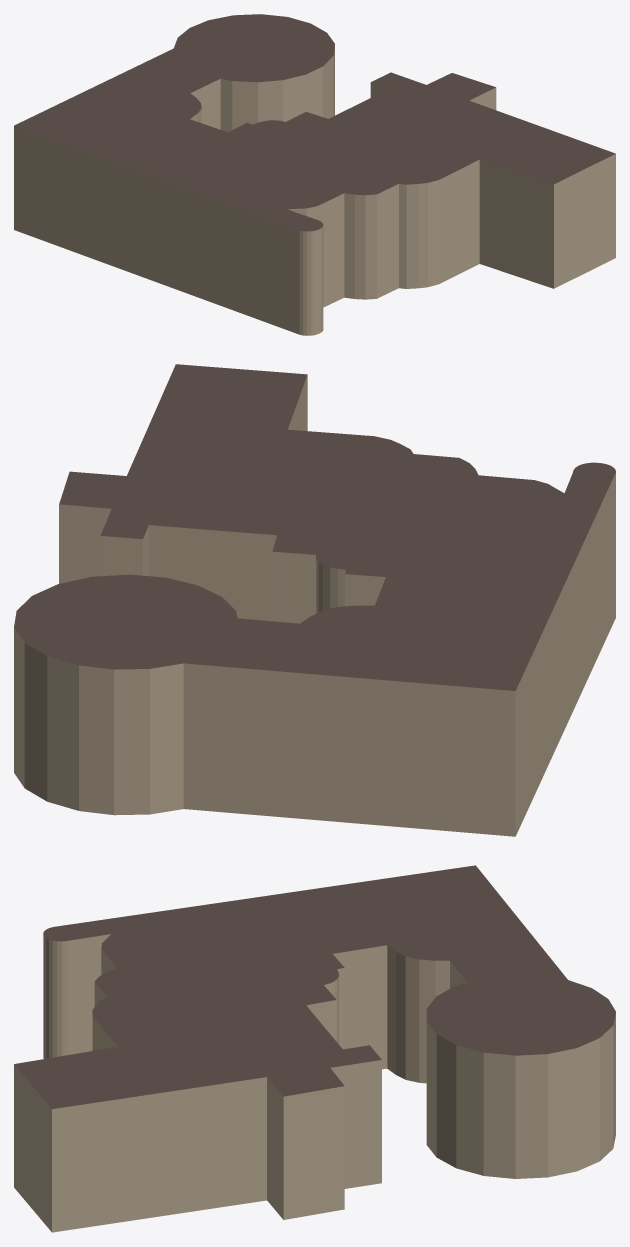
3 views of the same model, one above another, from view 1: azimuth 30°, elevation 25°; view 2: azimuth 150°, elevation 25°; view 3: azimuth 270°, elevation 25° (orthographic). The views are drawn at different scales.
Visible parts, largest first — view 1: HP-w1435252853; view 2: HP-w1435252853; view 3: HP-w1435252853.
Boxes of the visible parts, x1=… form: HP-w1435252853: x1=14, y1=14, x2=615, y2=335; HP-w1435252853: x1=14, y1=364, x2=615, y2=836; HP-w1435252853: x1=14, y1=865, x2=615, y2=1232.
Size of the model in its own units: 38.14 by 9 by 39.79.
